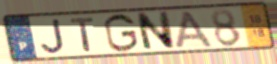8: (210, 8, 244, 48)
A: (174, 10, 216, 49)
G: (102, 13, 140, 54)
J: (39, 18, 67, 55)
N: (134, 10, 177, 52)
T: (69, 16, 98, 53)
